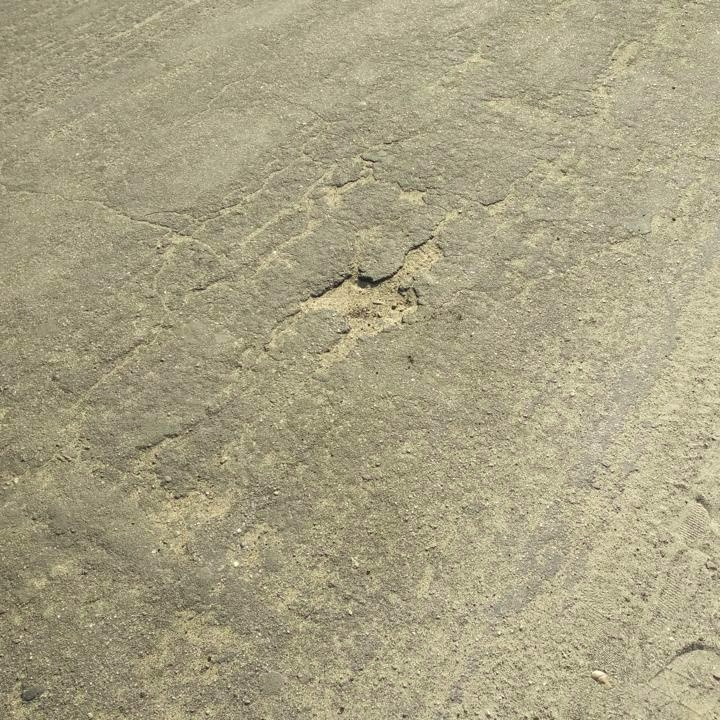pothole: (293, 269, 424, 339), (400, 233, 448, 268)
